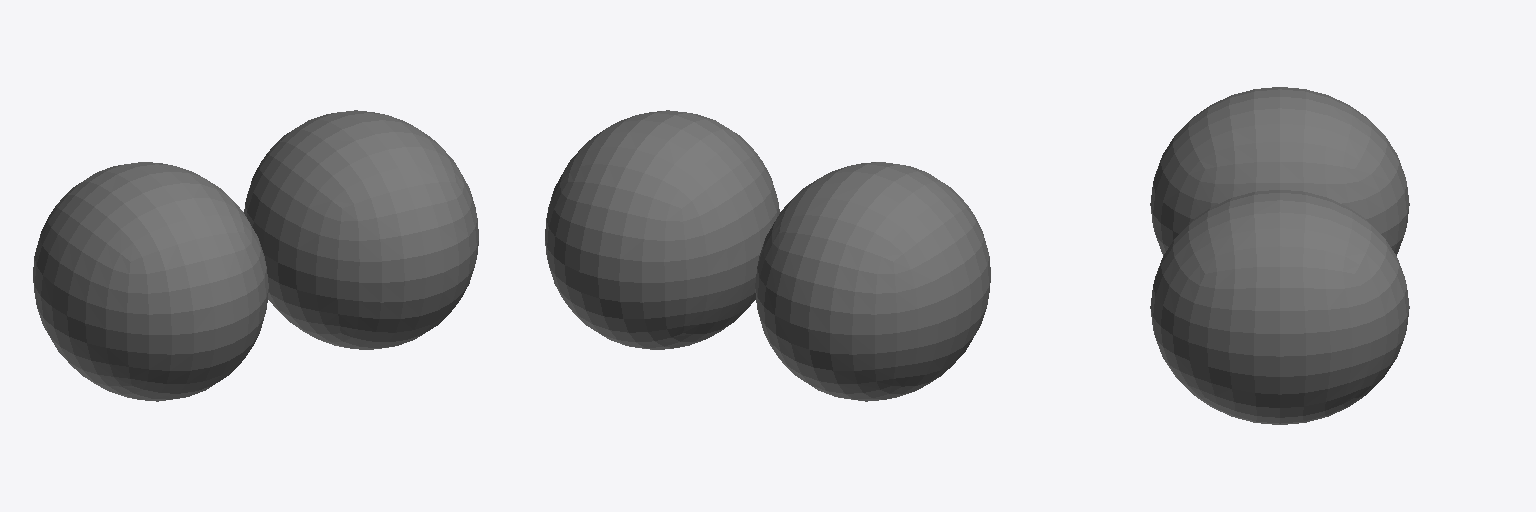
Rendered from Morte_Olhos.obj.
The picture shows the model from 3 angles: view 1: azimuth 30°, elevation 25°; view 2: azimuth 150°, elevation 25°; view 3: azimuth 270°, elevation 25°; orthographic projection.
Visible parts, largest first — view 1: LowPoly_Morte_Olhos; view 2: LowPoly_Morte_Olhos; view 3: LowPoly_Morte_Olhos.
Boxes of the visible parts, <box> form: LowPoly_Morte_Olhos: <box>33,110,478,401</box>; LowPoly_Morte_Olhos: <box>545,110,990,401</box>; LowPoly_Morte_Olhos: <box>1150,87,1409,424</box>.
Bounding box in the file's own units: 9.75 × 4.91 × 5.37.